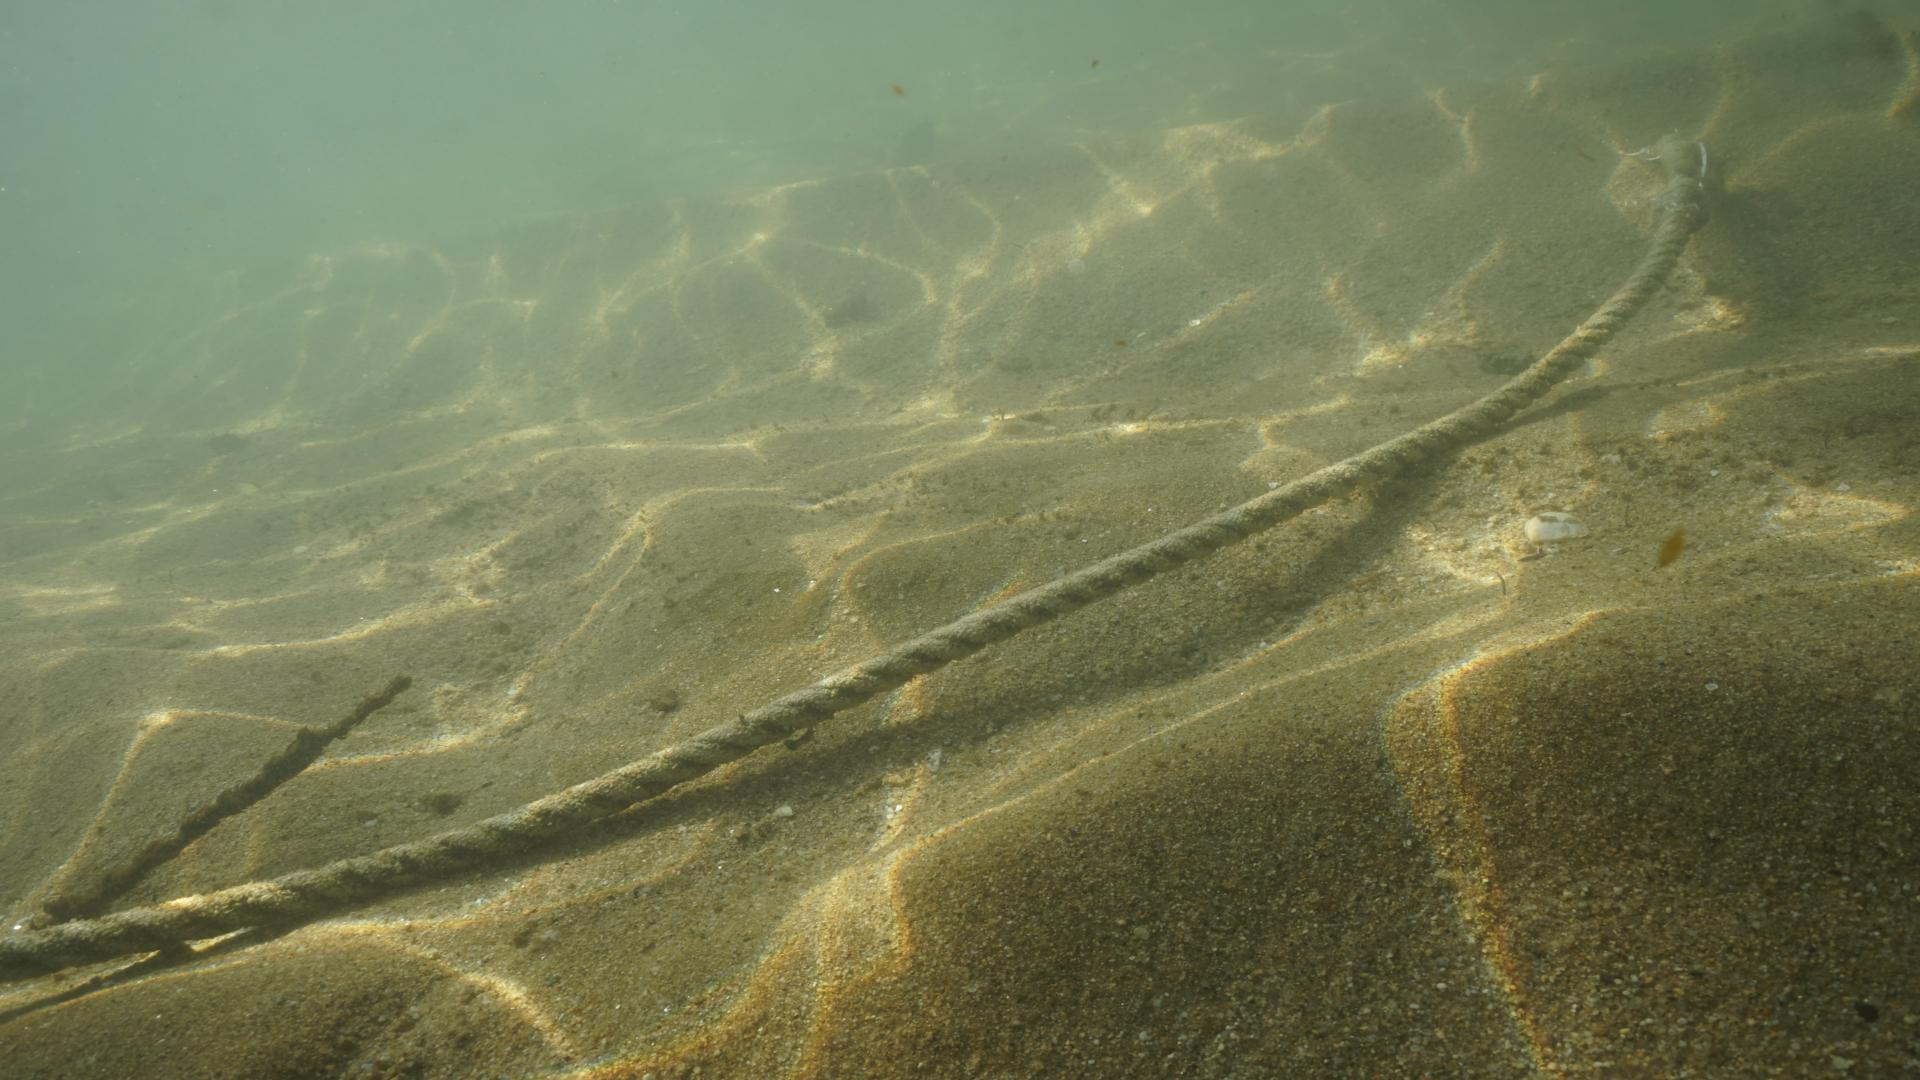rope: (0, 133, 1702, 973)
